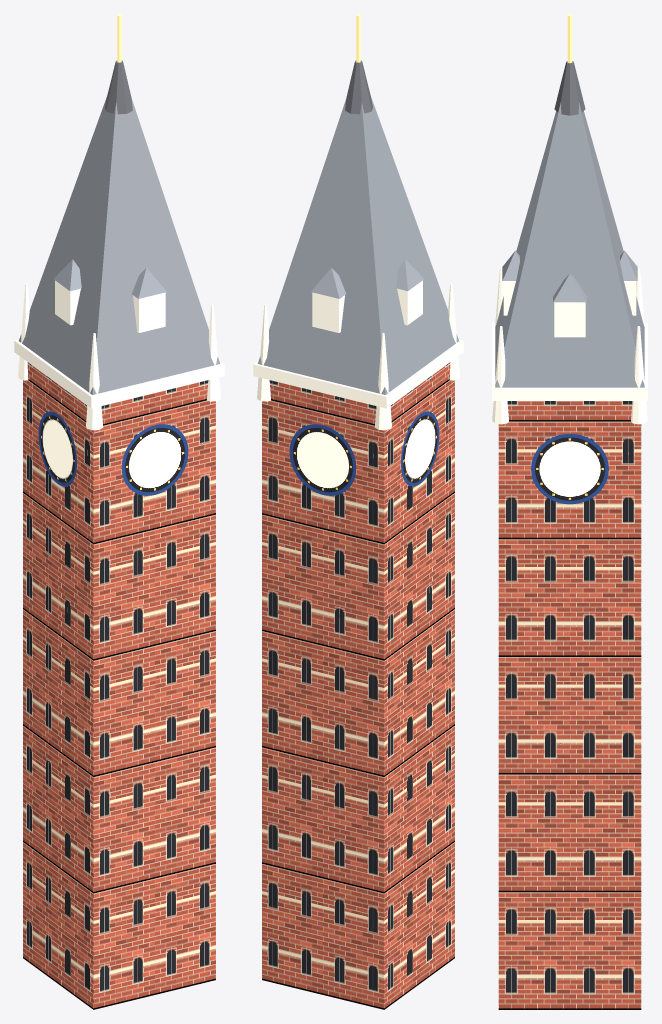
File: st_pancras.glb
The picture shows the model from 3 angles, left to right: view 1: azimuth 30°, elevation 25°; view 2: azimuth 150°, elevation 25°; view 3: azimuth 270°, elevation 25°; orthographic projection.
Visible parts, largest first — view 1: Tower, Spire, Band, Dial, Crown; view 2: Tower, Spire, Band, Dial, Crown; view 3: Tower, Spire, Band, Dial, Crown.
Part boxes in pixels (<box>): Tower: <box>23,362,215,1009</box>; Spire: <box>19,97,220,394</box>; Band: <box>14,280,224,430</box>; Dial: <box>38,411,188,495</box>; Crown: <box>105,60,132,114</box>; Tower: <box>262,362,454,1009</box>; Spire: <box>257,97,458,394</box>; Band: <box>253,280,463,430</box>; Dial: <box>289,411,439,495</box>; Crown: <box>345,60,372,114</box>; Tower: <box>498,401,641,1009</box>; Spire: <box>495,102,644,387</box>; Band: <box>492,268,647,424</box>; Dial: <box>531,433,608,504</box>; Crown: <box>554,61,585,115</box>.
Bounding box in the file's own units: 12 × 82 × 12.
6 materials, 2 textured.
